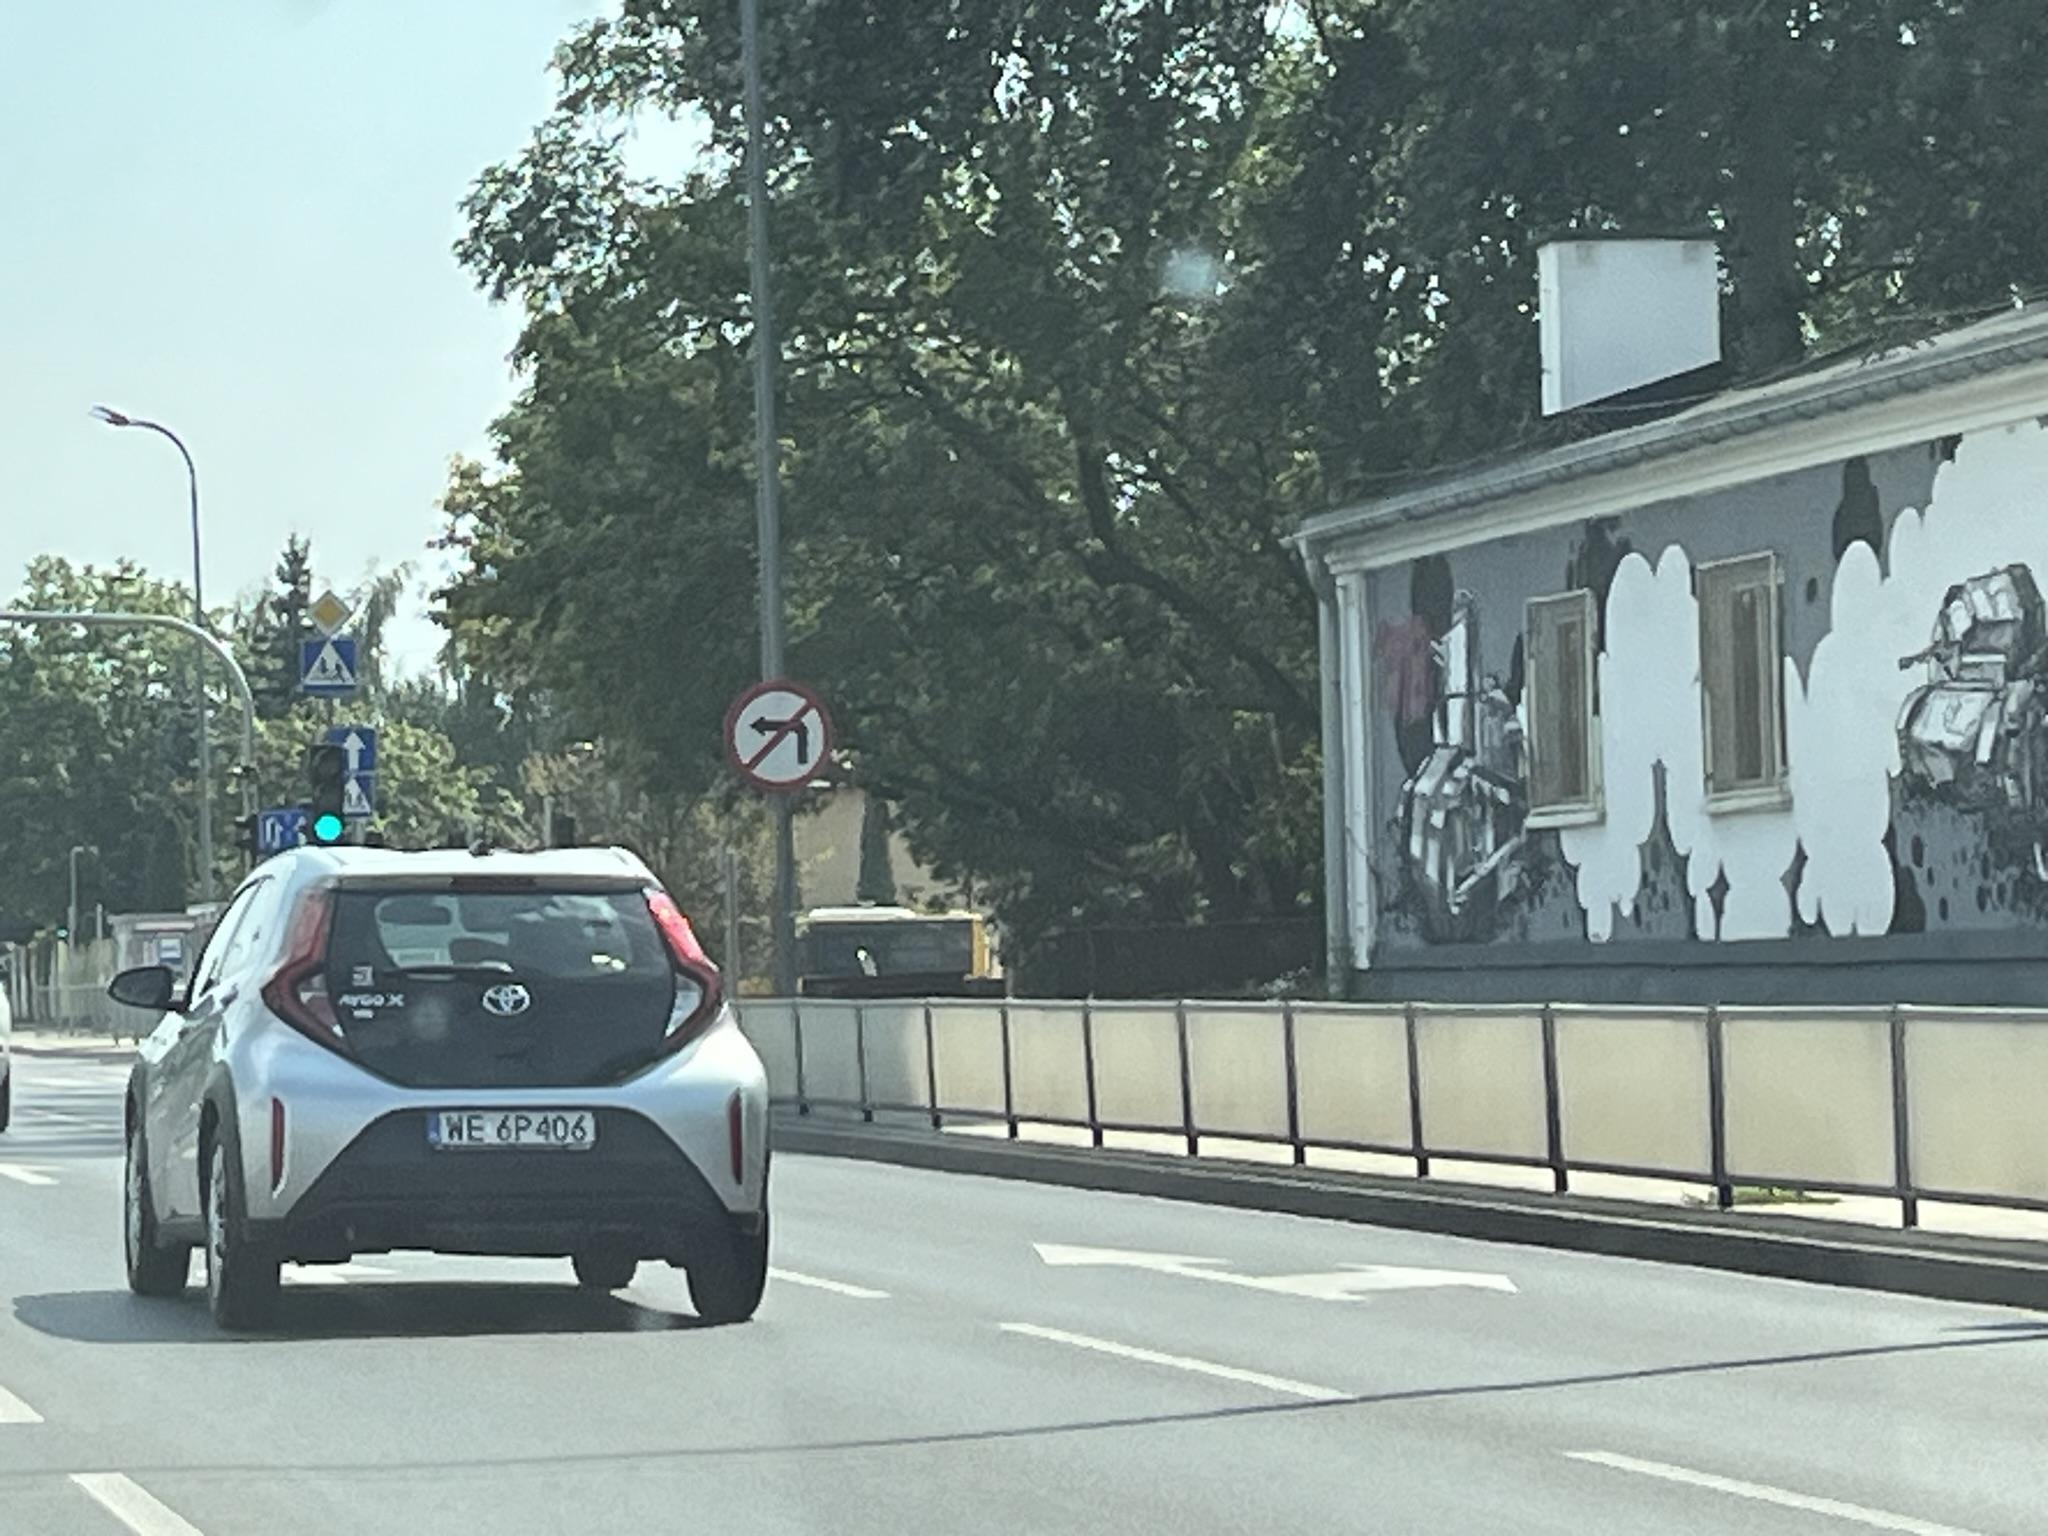information: (300, 641, 355, 692), (305, 591, 353, 639), (329, 729, 376, 773), (342, 776, 376, 816)
prohibitory: (722, 679, 834, 792)
